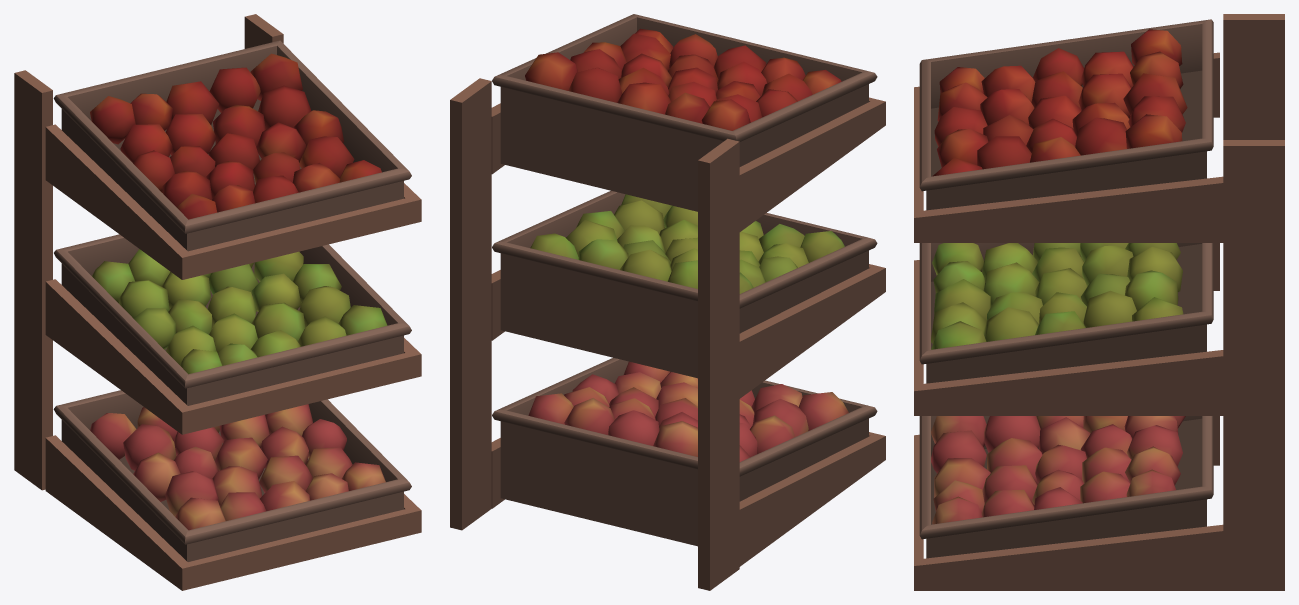
The model's file is consumables-vegetables-marketstand_v3.glb.
3 renders of one model, left to right at view 1: azimuth 30°, elevation 25°; view 2: azimuth 150°, elevation 25°; view 3: azimuth 270°, elevation 25°, orthographic. The views are drawn at different scales.
Parts seen in each view (by area): view 1: MarketStand_v3; view 2: MarketStand_v3; view 3: MarketStand_v3.
Boxes of the visible parts, x1=… form: MarketStand_v3: x1=14, y1=14, x2=421, y2=590; MarketStand_v3: x1=450, y1=14, x2=885, y2=590; MarketStand_v3: x1=914, y1=14, x2=1284, y2=590.
Bounding box in the file's own units: 0.5684 × 0.9122 × 0.6749.
